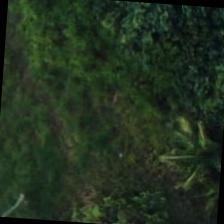Kelapa_Sawit: (146, 110, 223, 206)
